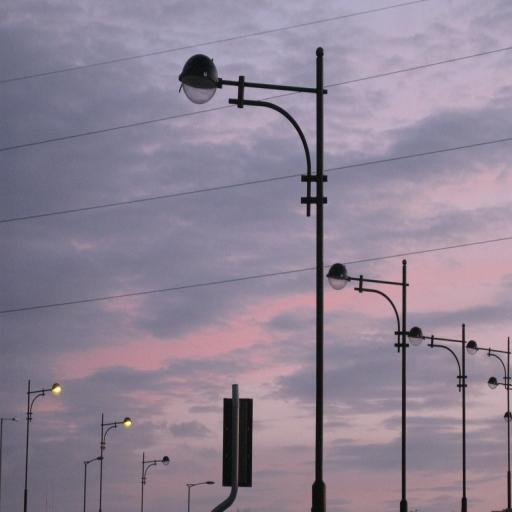off street light: (174, 39, 343, 492), (324, 235, 419, 512)
on street light: (22, 360, 67, 512), (92, 406, 137, 512)
